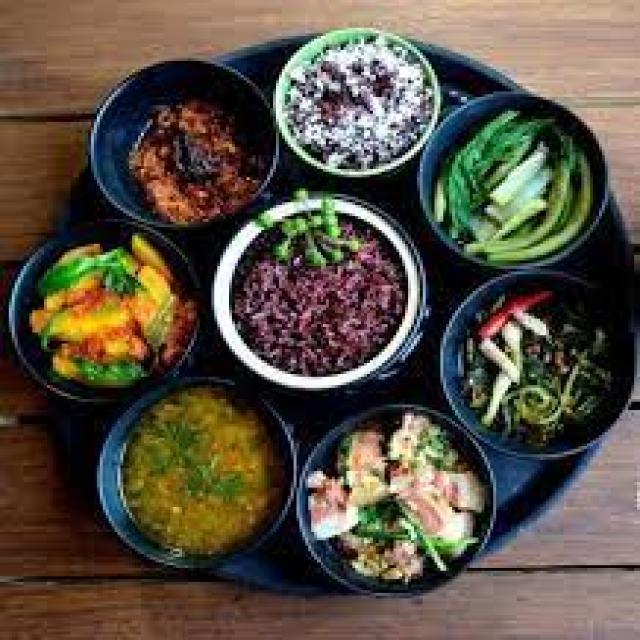veg-fry: (105, 59, 276, 233), (117, 381, 283, 554)
